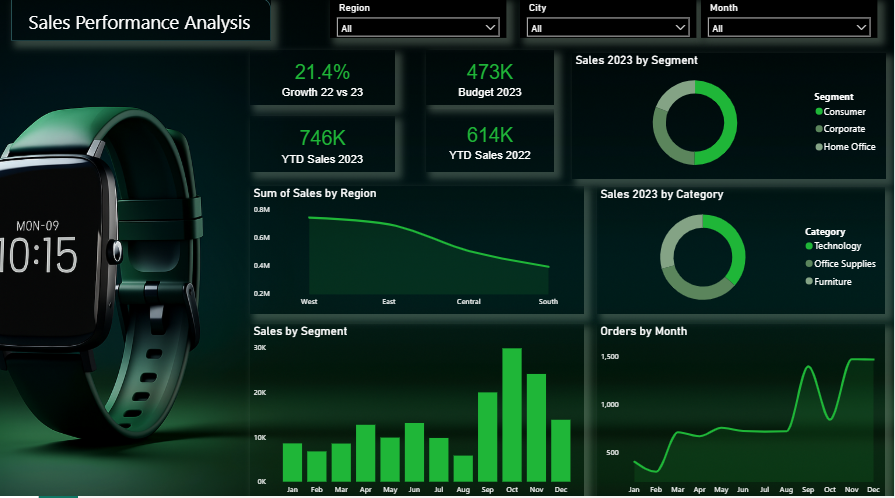

This screenshot's page, from the dashboard's own definition file:
{"tool":"powerbi","page":{"name":"Page 1","canvas":[1280,720],"ordinal":0},"visuals":[{"type":"pieChart","title":"Sales 2023 by Segment","fields":{"Y":["Orders.Total_Sales"],"Category":["Orders.Segment"]},"box":[820,78.6,448.6,180],"z":0},{"type":"clusteredColumnChart","title":"Sales by Segment","fields":{"Series":["Orders.Segment"],"Y":["Orders.Current_year_sales"],"Category":["Orders.Month"]},"box":[360,465.7,477.1,254.3],"z":1000},{"type":"pieChart","title":"Sales 2023 by Category","fields":{"Y":["Orders.Current_year_sales"],"Category":["Orders.Category"]},"box":[856.1,270.7,412.4,181.4],"z":2000},{"type":"areaChart","title":"Orders by Month","fields":{"Category":["Orders.Month"],"Y":["CountNonNull(Orders.Customer ID)"]},"box":[856.1,466.3,412.4,253.7],"z":3000},{"type":"card","fields":{"Values":["Orders.Current_year_sales"]},"box":[360,168.6,207.1,80],"z":4000},{"type":"card","fields":{"Values":["Orders.Previous_year_sales"]},"box":[611.4,158.6,182.9,90],"z":5000},{"type":"card","fields":{"Values":["Orders.Sales_growth"]},"box":[360,74.3,207.1,78.6],"z":6000},{"type":"card","fields":{"Values":["Orders.Current_year_sales"]},"box":[611.4,74.3,182.9,78.6],"z":7000},{"type":"stackedAreaChart","fields":{"Category":["Orders.Region"],"Y":["Sum(Orders.Sales)"]},"box":[360,268.6,477.1,182.9],"z":9000},{"type":"shape","box":[18.6,0,371.4,61.4],"z":10000},{"type":"slicer","fields":{"Values":["Orders.Region"]},"box":[474.8,0,252.3,56.7],"z":11000},{"type":"slicer","fields":{"Values":["Orders.City"]},"box":[745.5,0,252.3,56.7],"z":12000},{"type":"slicer","fields":{"Values":["Orders.Month"]},"box":[1004.9,0,252.3,56.7],"z":13000}]}

Visuals, with their boxes in screenshot pixels (x1, y1, x2, y2), scaled from the page's 1280x720 canvas onto the 895x498 screenshot:
"Sales 2023 by Segment" pieChart: 573/54/887/179
"Sales by Segment" clusteredColumnChart: 252/322/585/497
"Sales 2023 by Category" pieChart: 599/187/887/313
"Orders by Month" areaChart: 599/323/887/497
card - Orders.Current_year_sales: 252/117/397/172
card - Orders.Previous_year_sales: 428/110/555/172
card - Orders.Sales_growth: 252/51/397/106
card - Orders.Current_year_sales: 428/51/555/106
stackedAreaChart - Orders.Region x Sum(Orders.Sales): 252/186/585/312
shape: 13/0/273/42
slicer - Orders.Region: 332/0/508/39
slicer - Orders.City: 521/0/698/39
slicer - Orders.Month: 703/0/879/39
